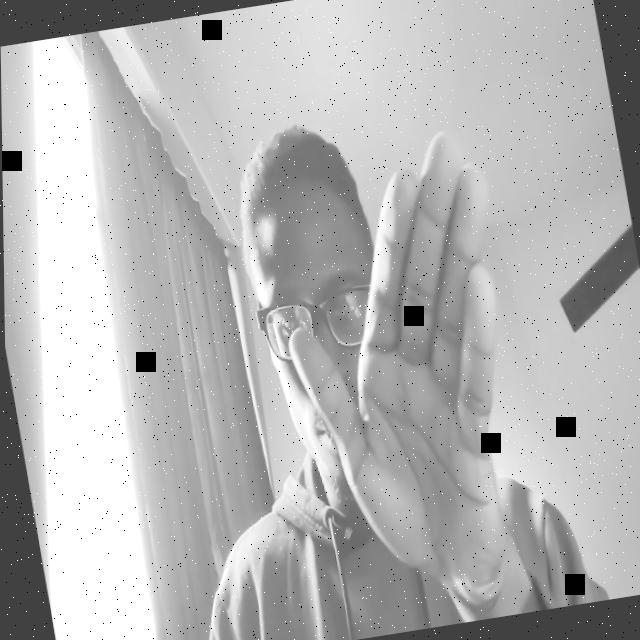Paper: (254, 122, 557, 630)
